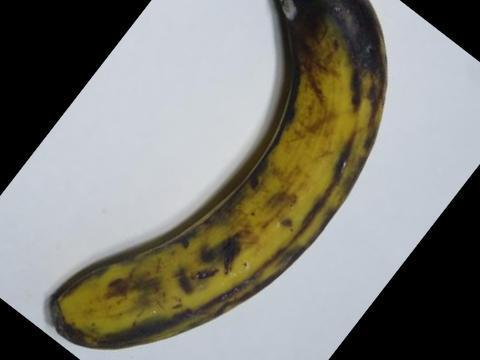overripe: (37, 0, 404, 359)
rotten: (258, 0, 403, 123)
